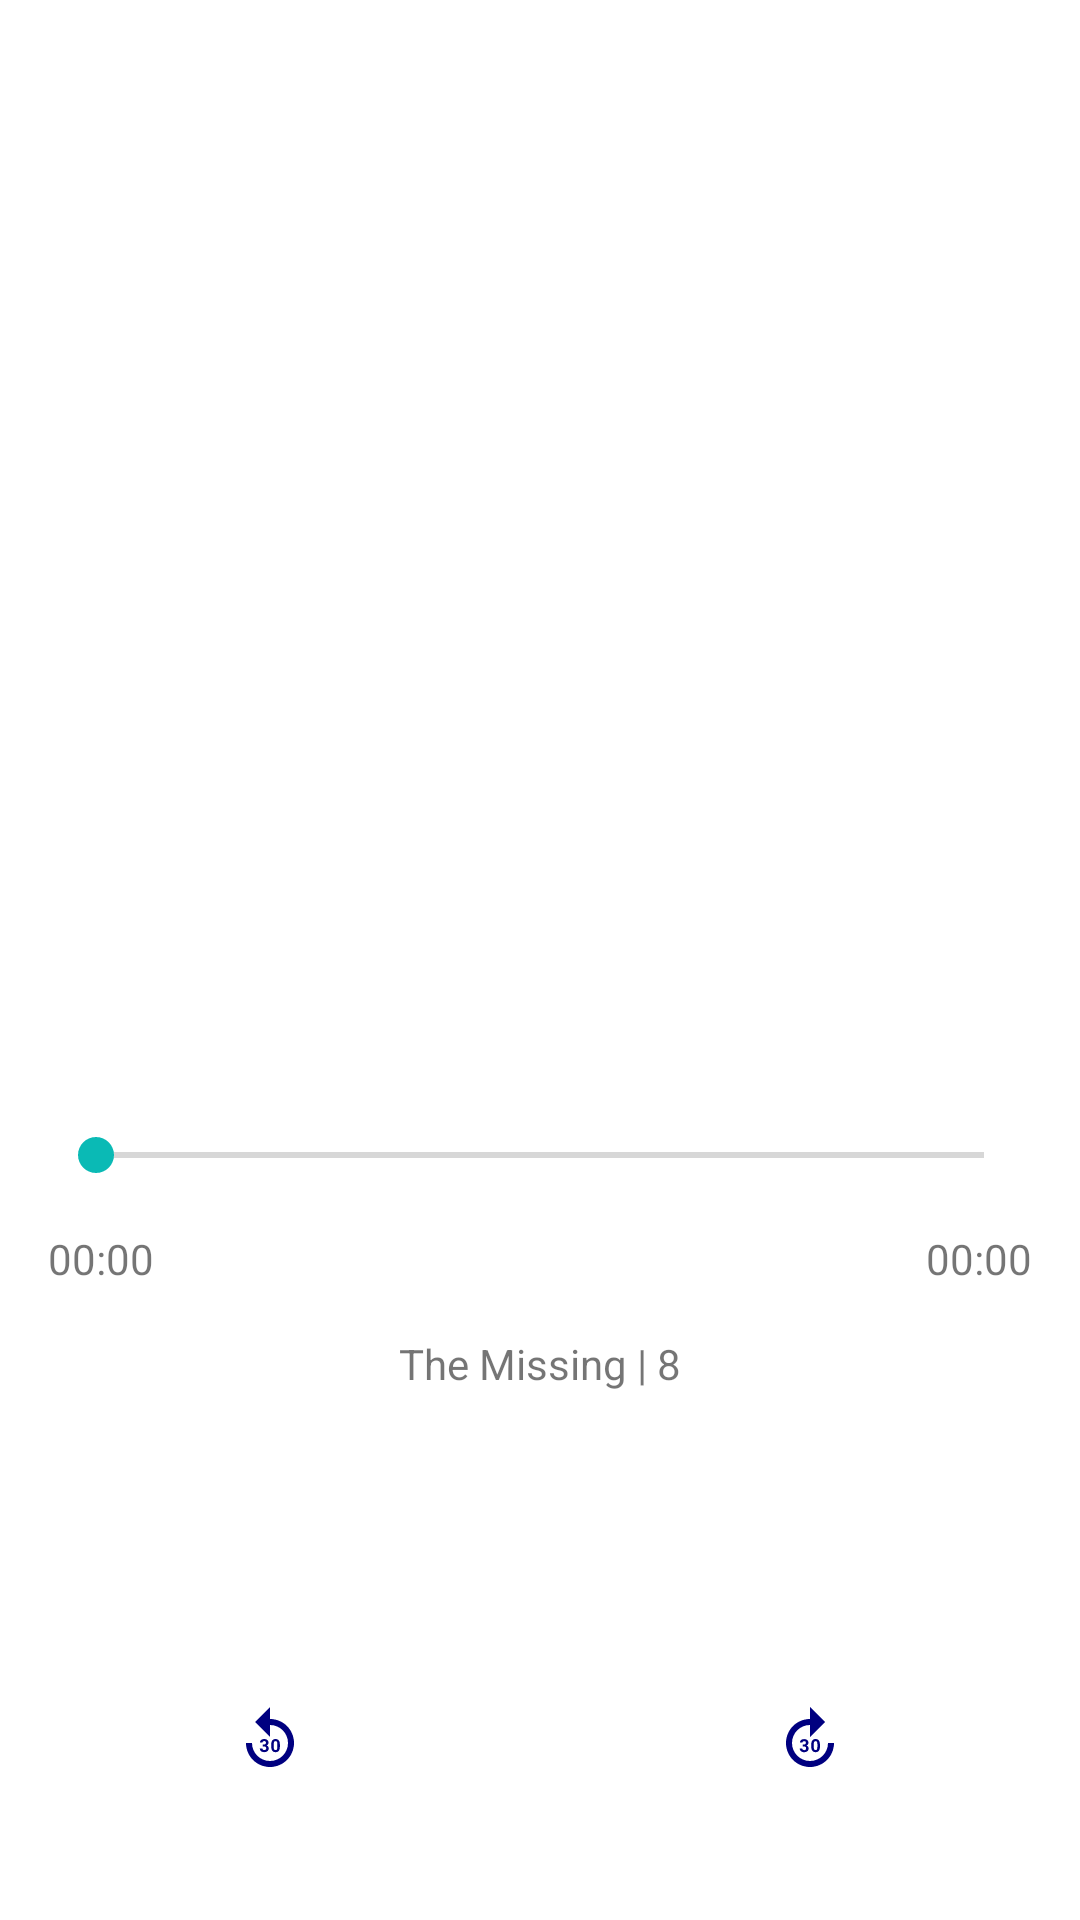

Screen size 1080w x 1920h. Icon name, then its center in pixels as (x,y):
forward: (810,1737)
replay: (270,1737)
